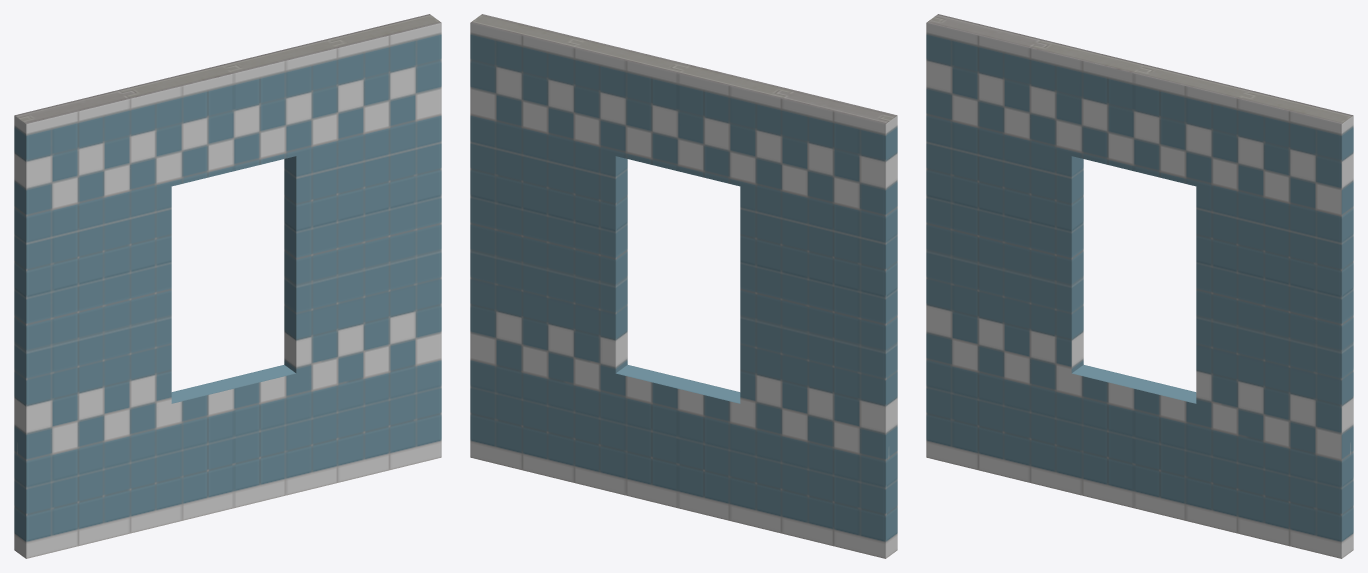
The model's file is wall8_4.fbx.
The picture shows the model from 3 angles, left to right: view 1: azimuth 30°, elevation 25°; view 2: azimuth 150°, elevation 25°; view 3: azimuth 330°, elevation 25°; orthographic projection.
Parts seen in each view (by area): view 1: wall8_bathroom_d; view 2: wall8_bathroom_d; view 3: wall8_bathroom_d.
Boxes of the visible parts, x1,y1,x2,y2 form: wall8_bathroom_d: (14,14,441,558); wall8_bathroom_d: (470,14,897,558); wall8_bathroom_d: (926,14,1353,558).
Size of the model in its own units: 400 by 400 by 20.
